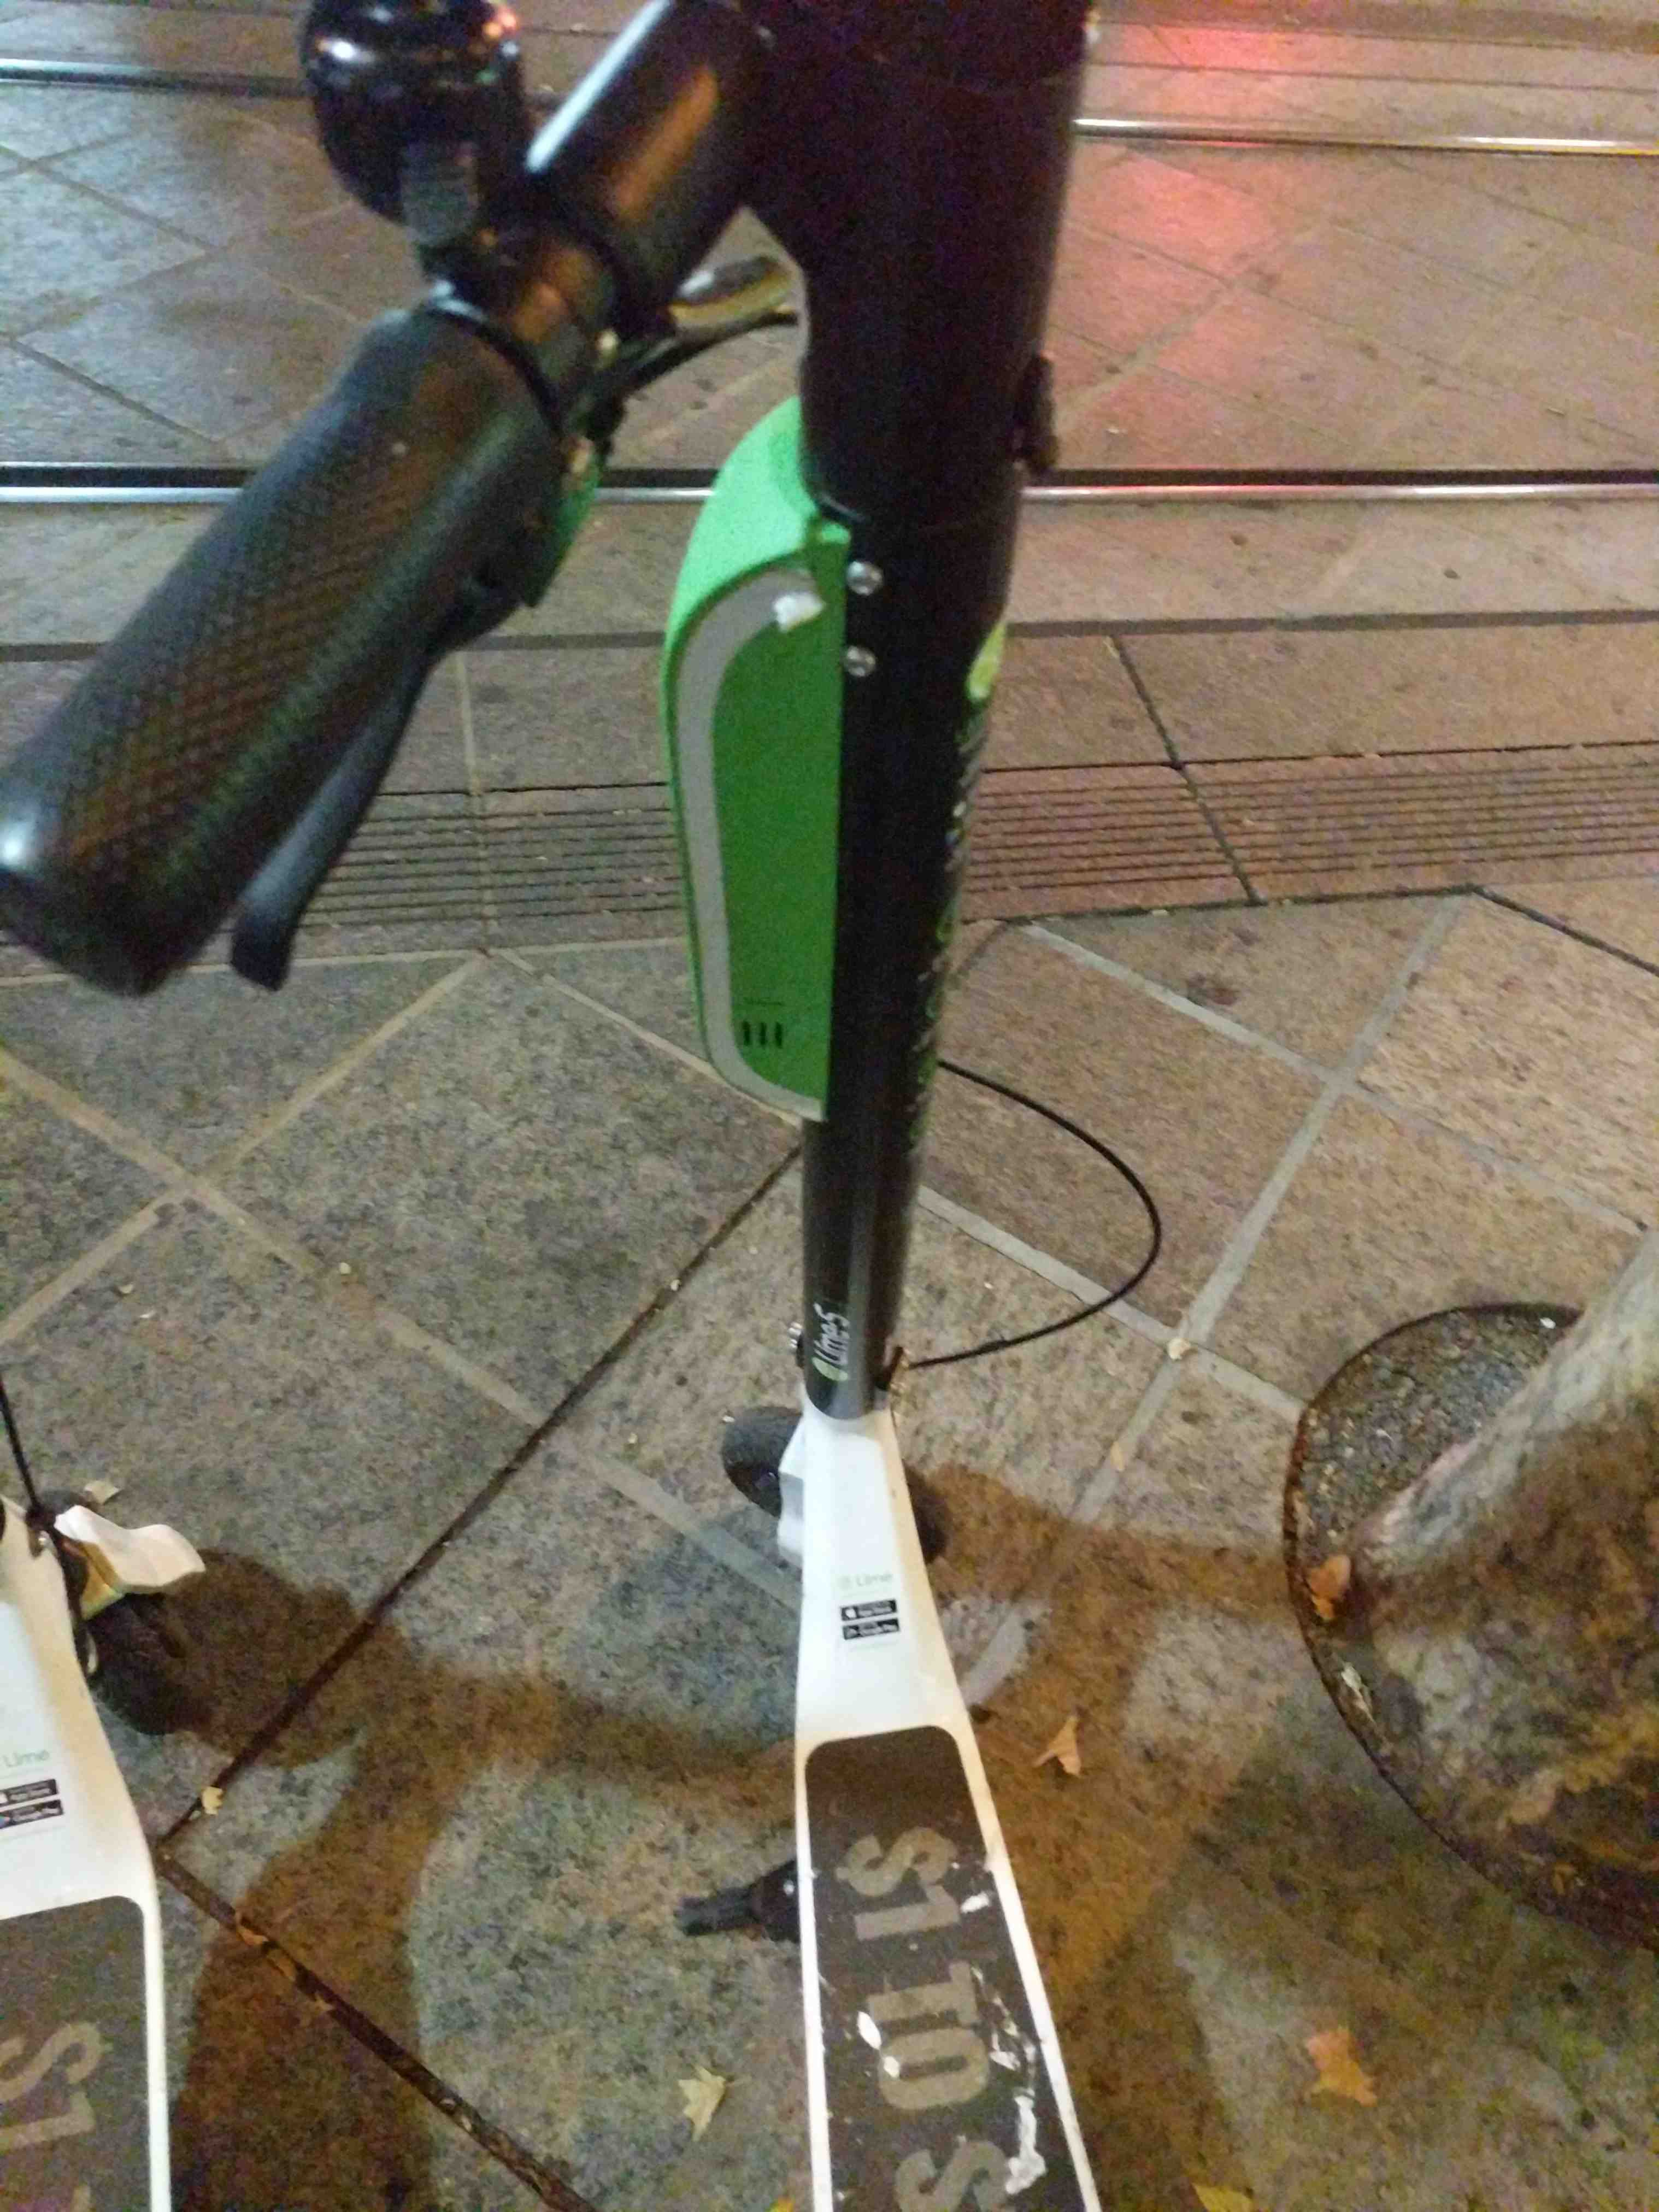scooter: (35, 37, 1539, 2212)
